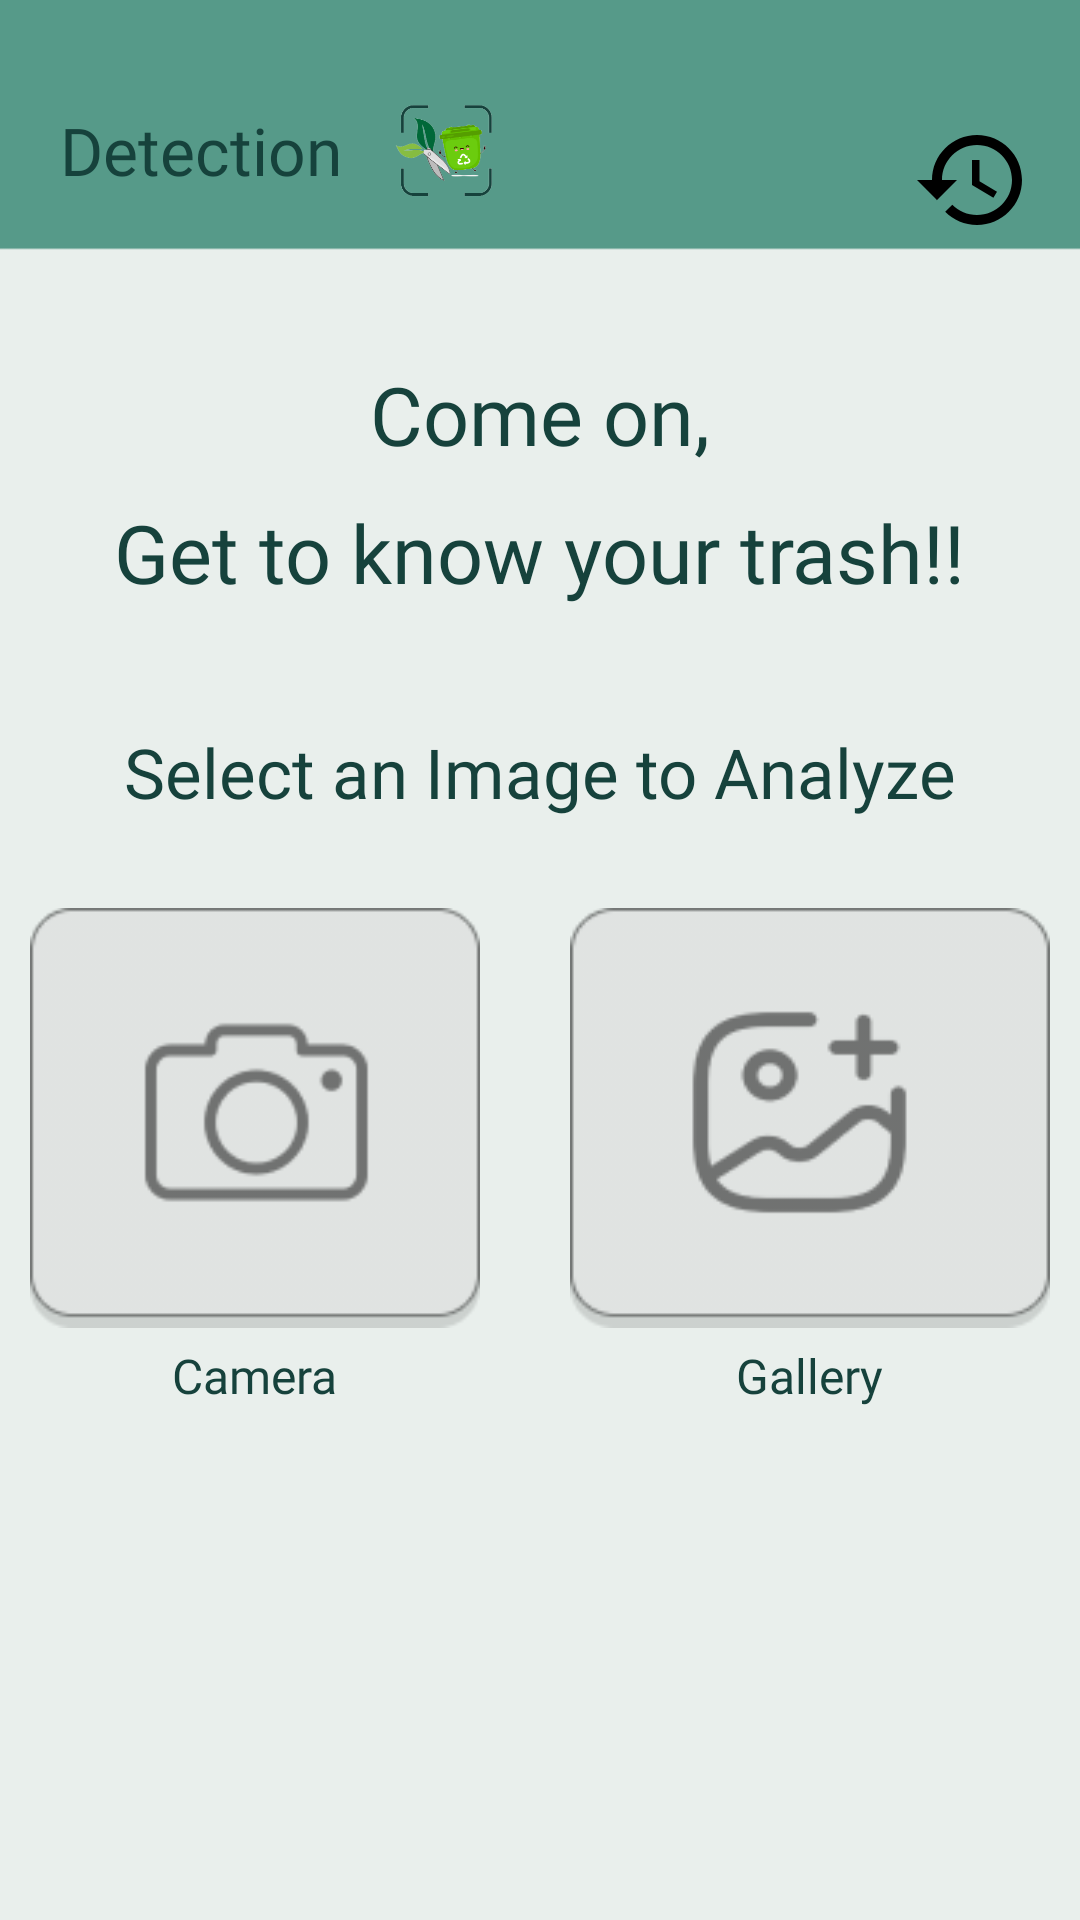

Icon bounding boxes for this 1080px x 1920px phone screenshot, format (left=x1, top=y1, right=x2, bottom=y2):
history: (left=917, top=135, right=1022, bottom=225)
